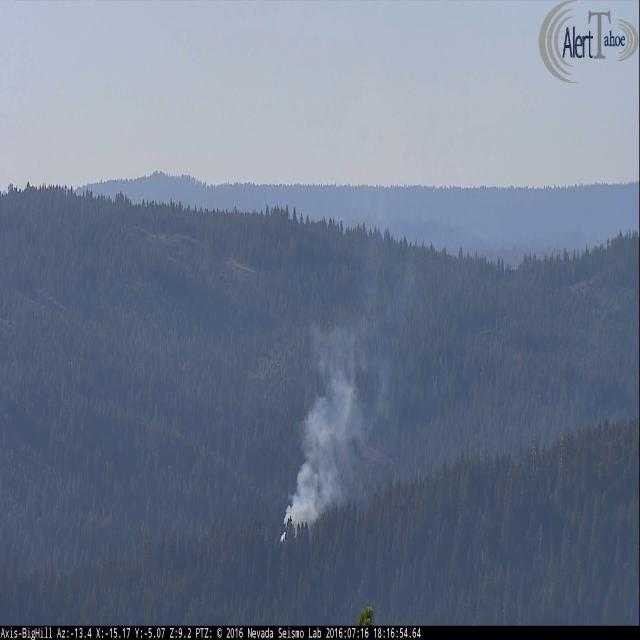smoke: (280, 319, 392, 546)
